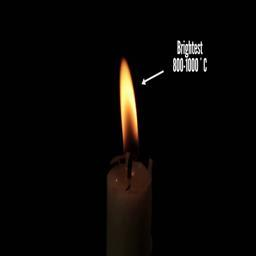fire: (118, 59, 139, 146)
